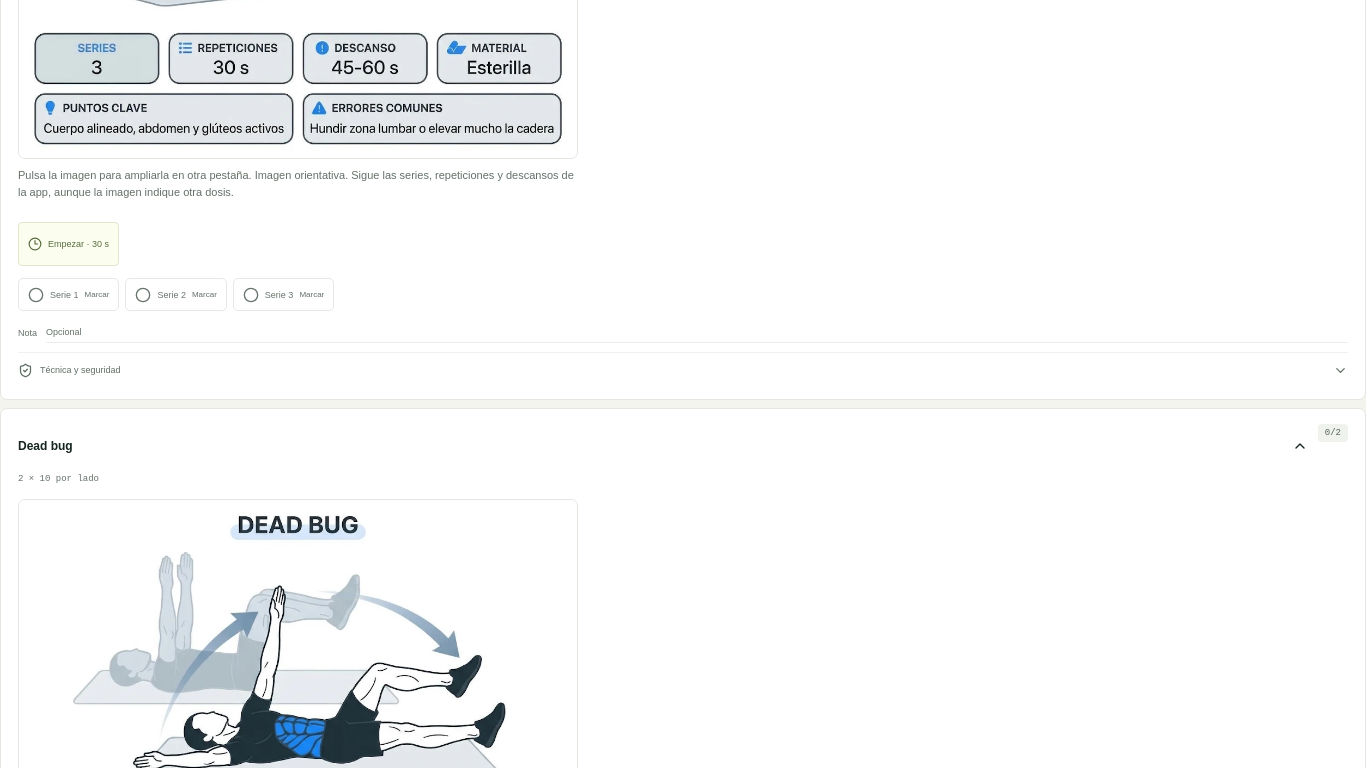
it: workout countdown integration › shows a countdown only for timed exercises and leaves the set manual at zero
This screenshot has width=1366, height=768.
Later steps or results of the test are not shown.
(page scrolled)
Click the button "Empezar · 30 s": (68, 244) [18, 222, 119, 266]
Wait 30000 ms
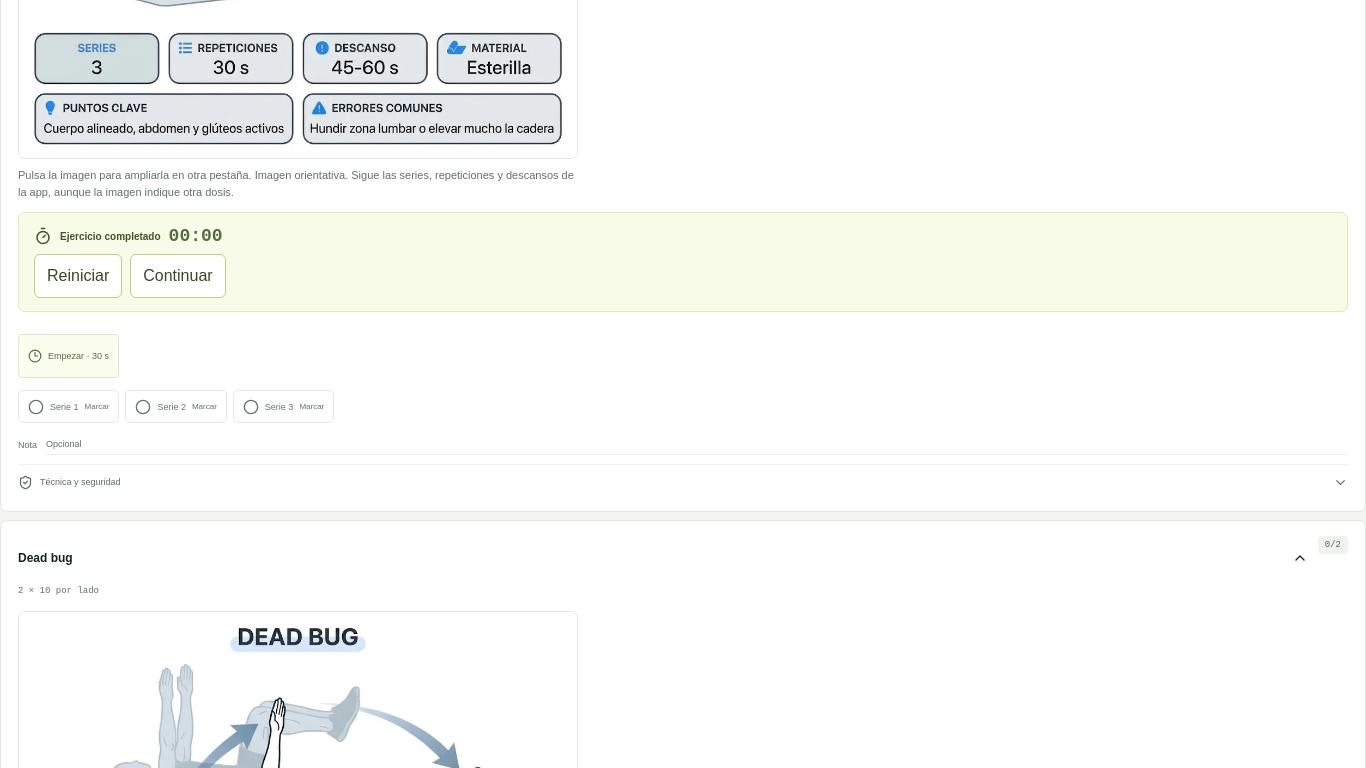
Result: the message reads "Ejercicio completado" at [60, 231, 161, 242]
